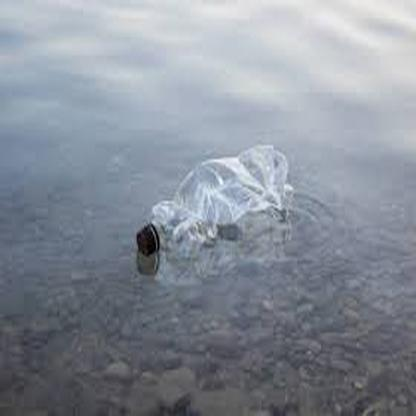plastic bottle: (136, 146, 295, 241)
